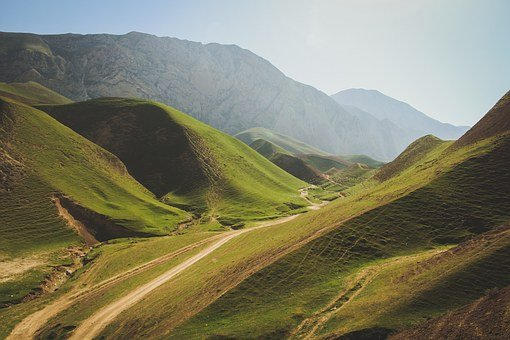field: (70, 112, 490, 340)
mountain: (9, 23, 508, 335)
